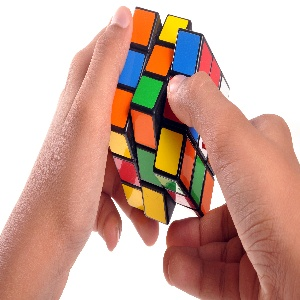cube: (107, 6, 229, 224)
